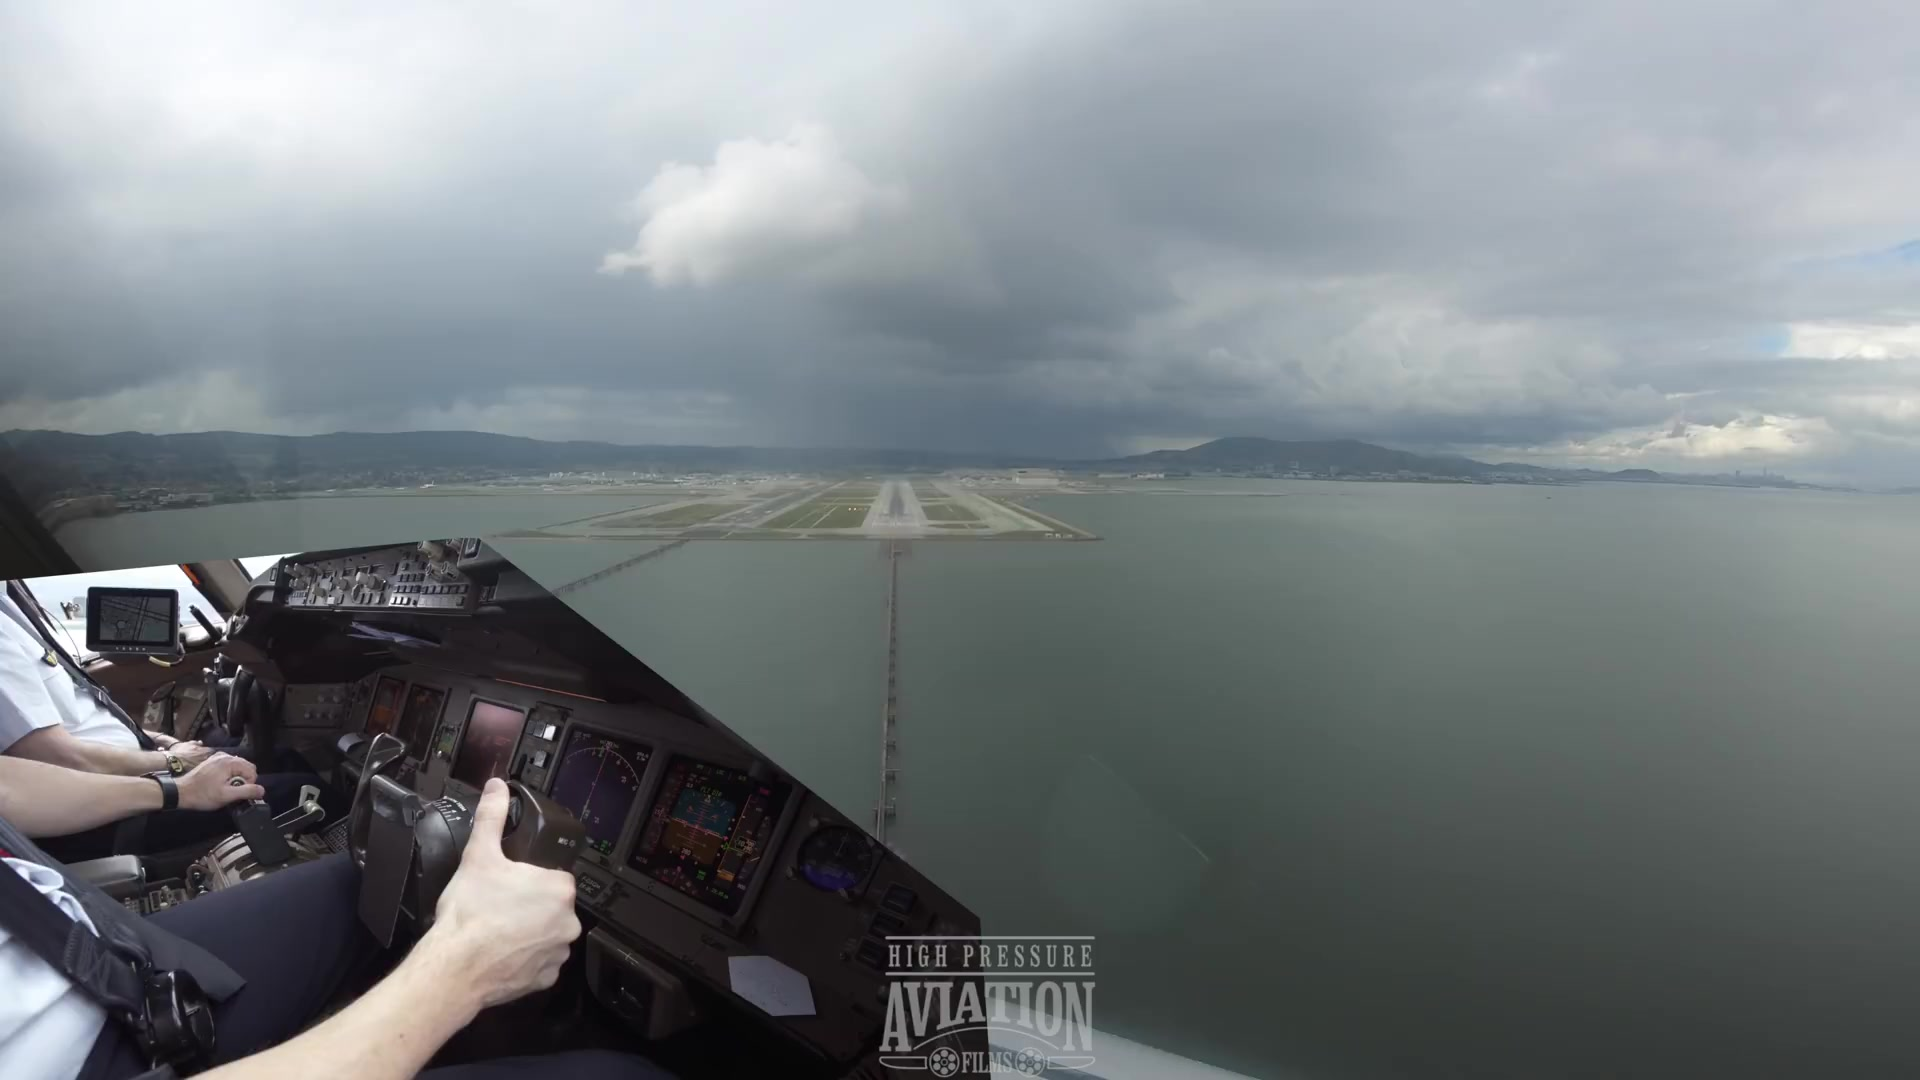runway: (692, 477, 845, 531), (860, 483, 930, 535)
